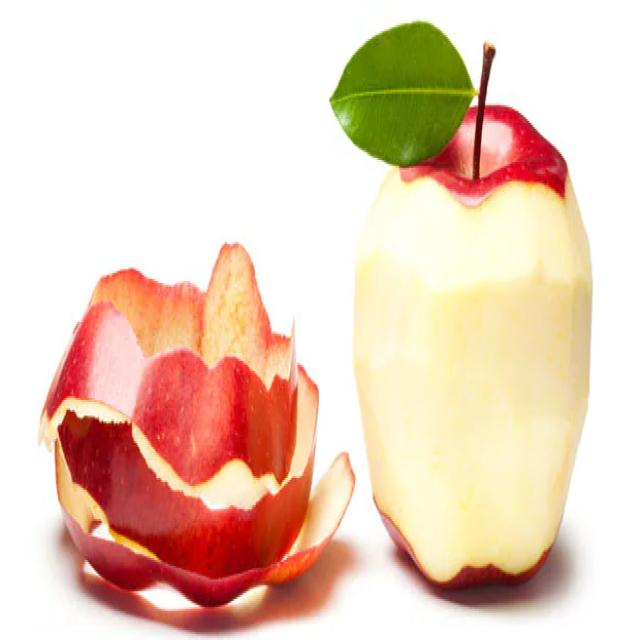organic: (37, 236, 360, 606)
